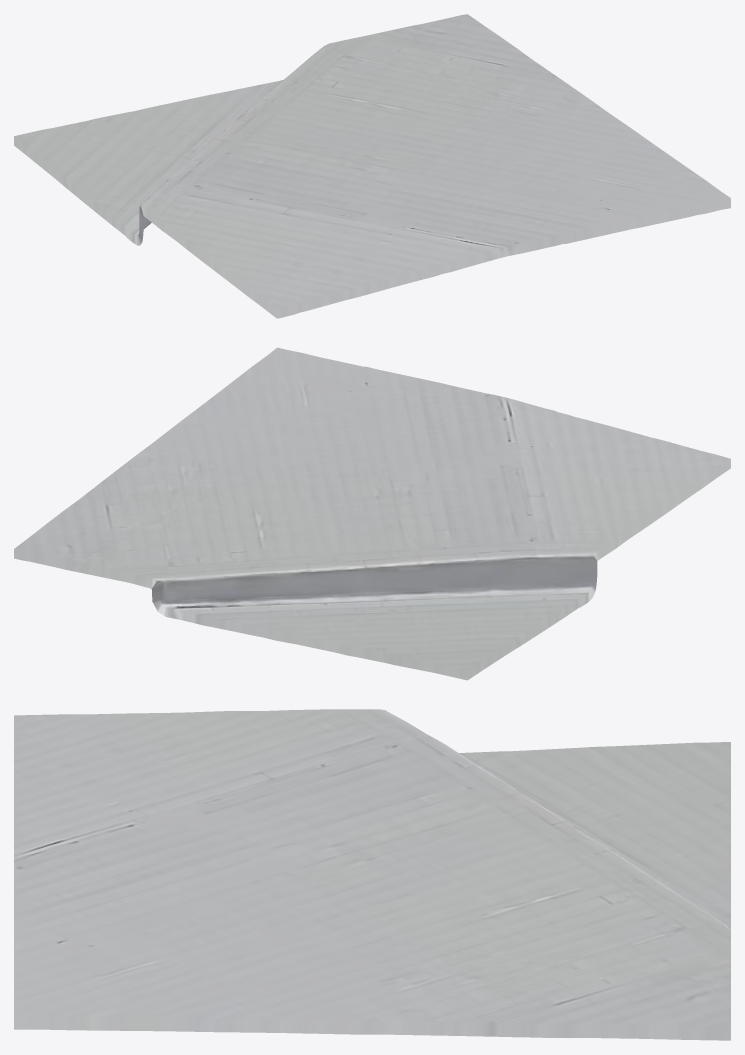
Rendered from z20-167771-405193-h0-yup-uvflip-v3-world.glb.
The picture shows the model from 3 angles, top to bottom: view 1: azimuth 30°, elevation 25°; view 2: azimuth 150°, elevation 25°; view 3: azimuth 270°, elevation 25°; orthographic projection. The views are drawn at different scales.
Size of the model in its own units: 30.16 by 2.88 by 30.32.
1 material, 1 textured.
